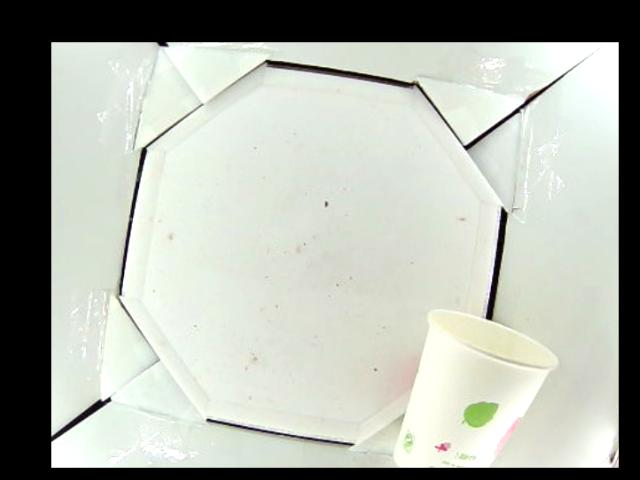Cup: (394, 309, 559, 467)
